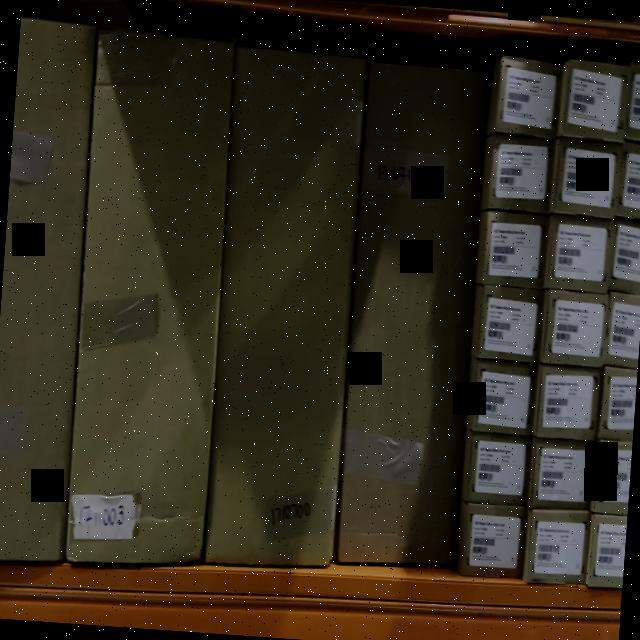box: (64, 33, 236, 564), (206, 50, 368, 572), (336, 62, 490, 564), (544, 293, 606, 367), (537, 368, 598, 442), (558, 144, 620, 216), (566, 67, 629, 136), (488, 212, 546, 286), (531, 444, 592, 511), (494, 136, 551, 206), (552, 223, 612, 289), (470, 436, 528, 502), (478, 365, 533, 432), (502, 64, 556, 132), (484, 293, 540, 358), (530, 518, 587, 580), (468, 508, 522, 572)
